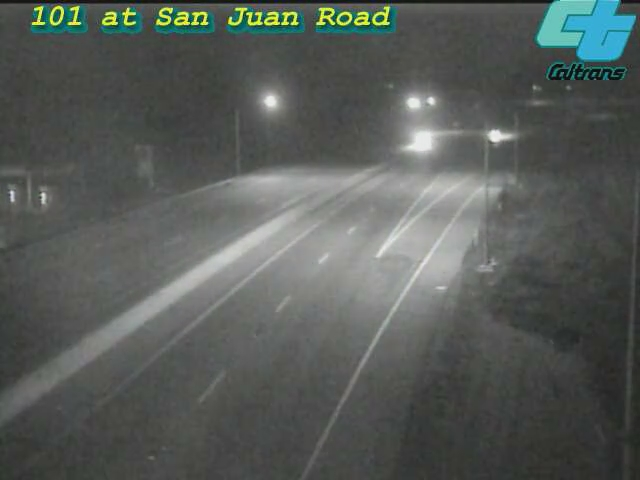vehicle: (394, 117, 444, 167), (471, 110, 521, 160)
